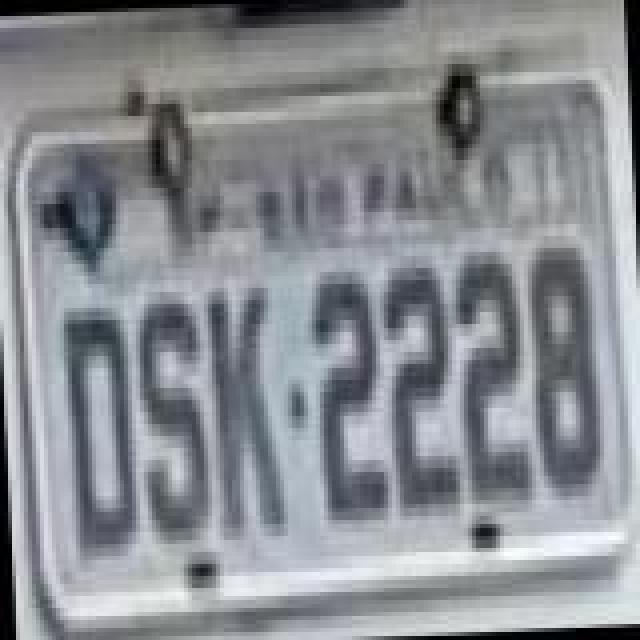2: (310, 268, 394, 532), (382, 262, 466, 522), (446, 246, 530, 506)
8: (522, 240, 606, 496)
D: (58, 302, 142, 562)
K: (206, 280, 290, 552)
S: (130, 292, 214, 548)
